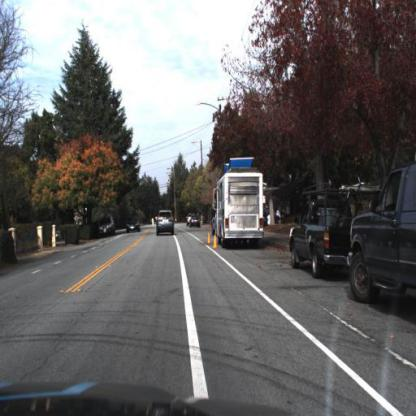car: (347, 163, 416, 309), (288, 180, 384, 281), (212, 153, 269, 254), (154, 208, 179, 241), (98, 213, 117, 242), (123, 214, 143, 236), (190, 213, 204, 234)
